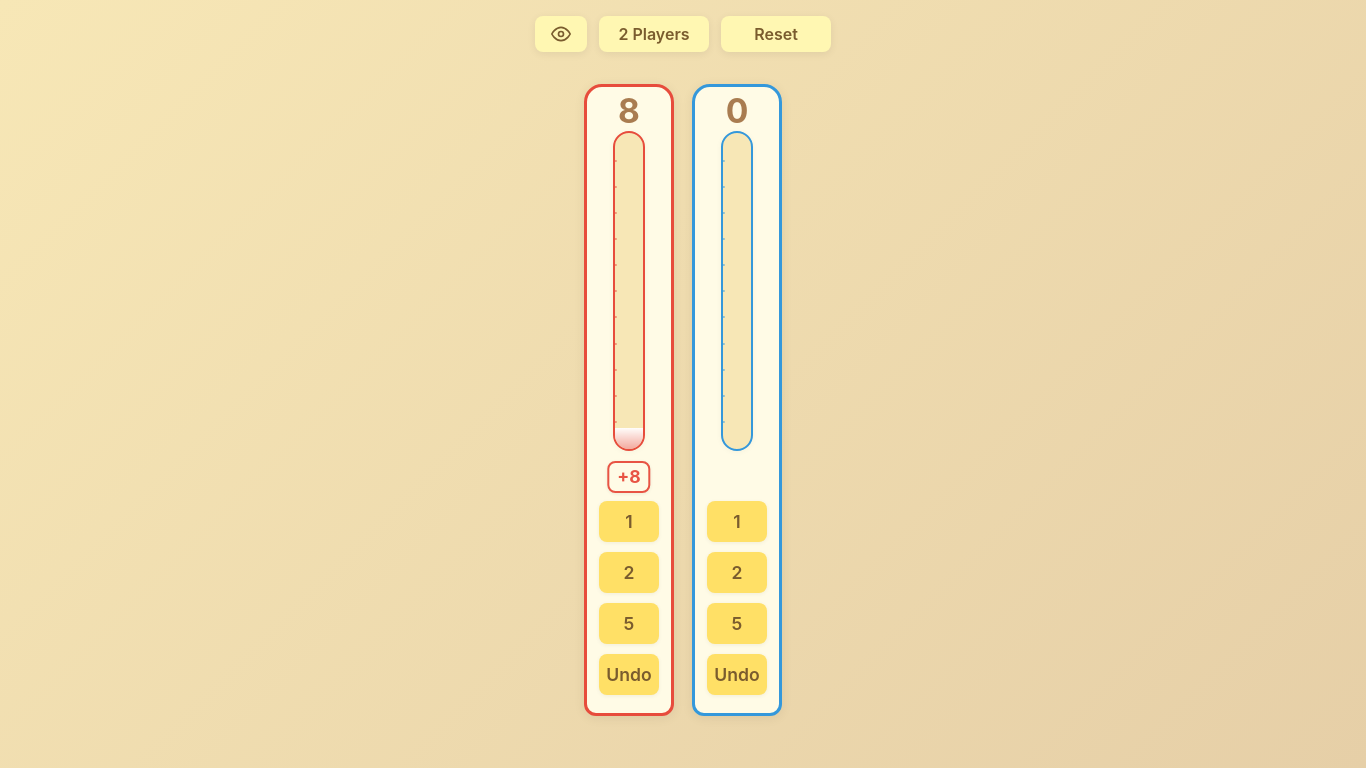
Test: CribbageBoard › undo button clears buffer or undoes last score
Expected: the 1st button "Undo" is shown, [599,654,659,695]
# Scenario 1: Undo clears active buffer
What coordinates should you click on to do the following:
click the 1st button "1"
I would click on:
 (629, 522)
Its box is [599,501,659,542].
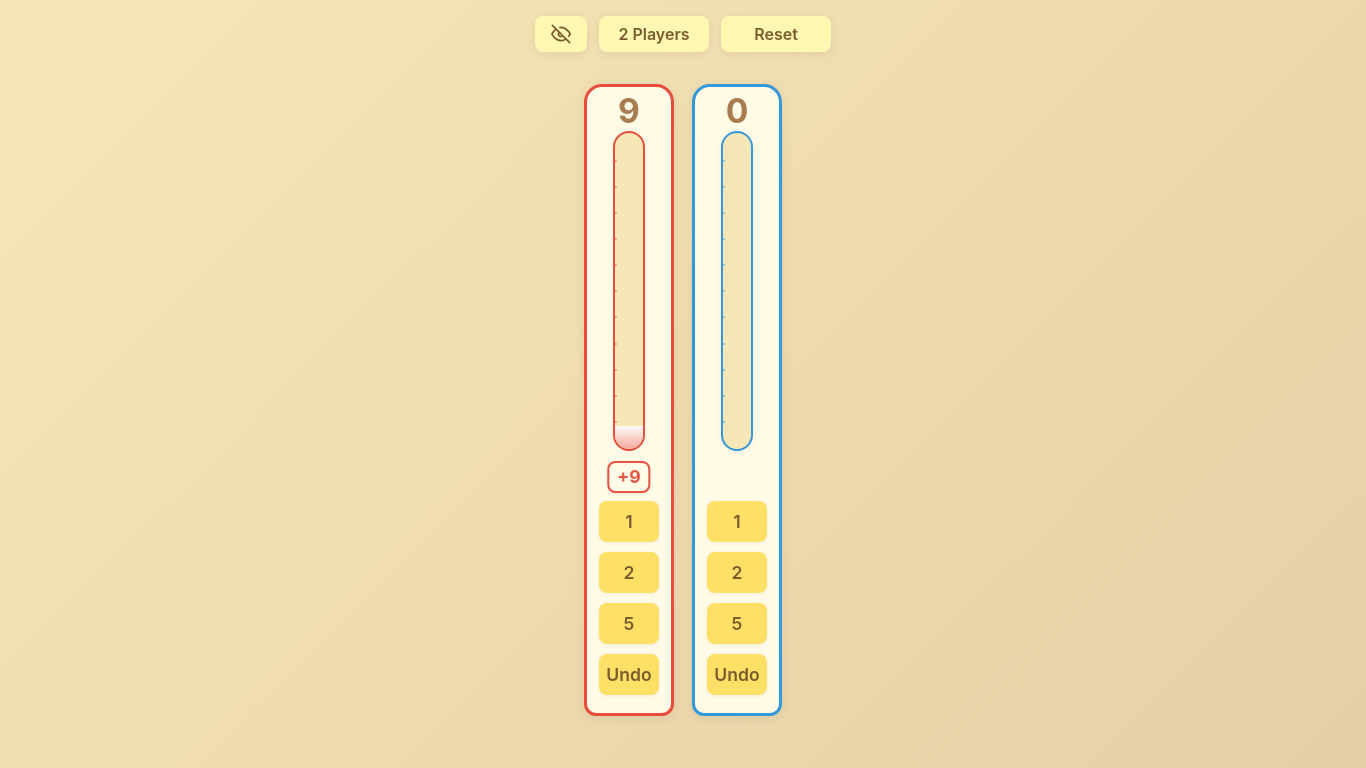
What coordinates should you click on to do the following:
click the 1st button "Undo"
I would click on:
 (629, 674)
Its box is [599,654,659,695].
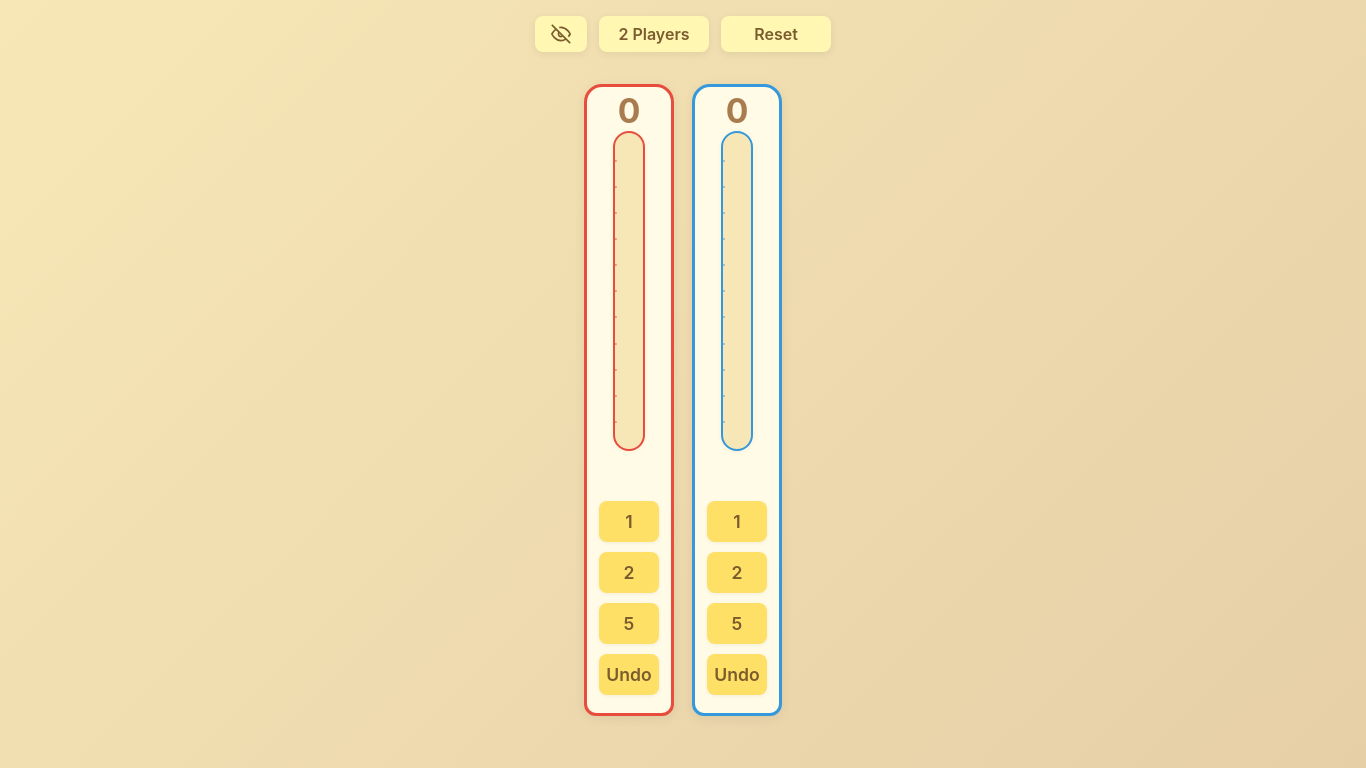
Now the text "+" is gone
Now the 1st text "0" is shown, box [618,99,640,123]
What coordinates should you click on to do the following:
click the 1st button "1"
I would click on:
 (629, 522)
Its box is [599,501,659,542].
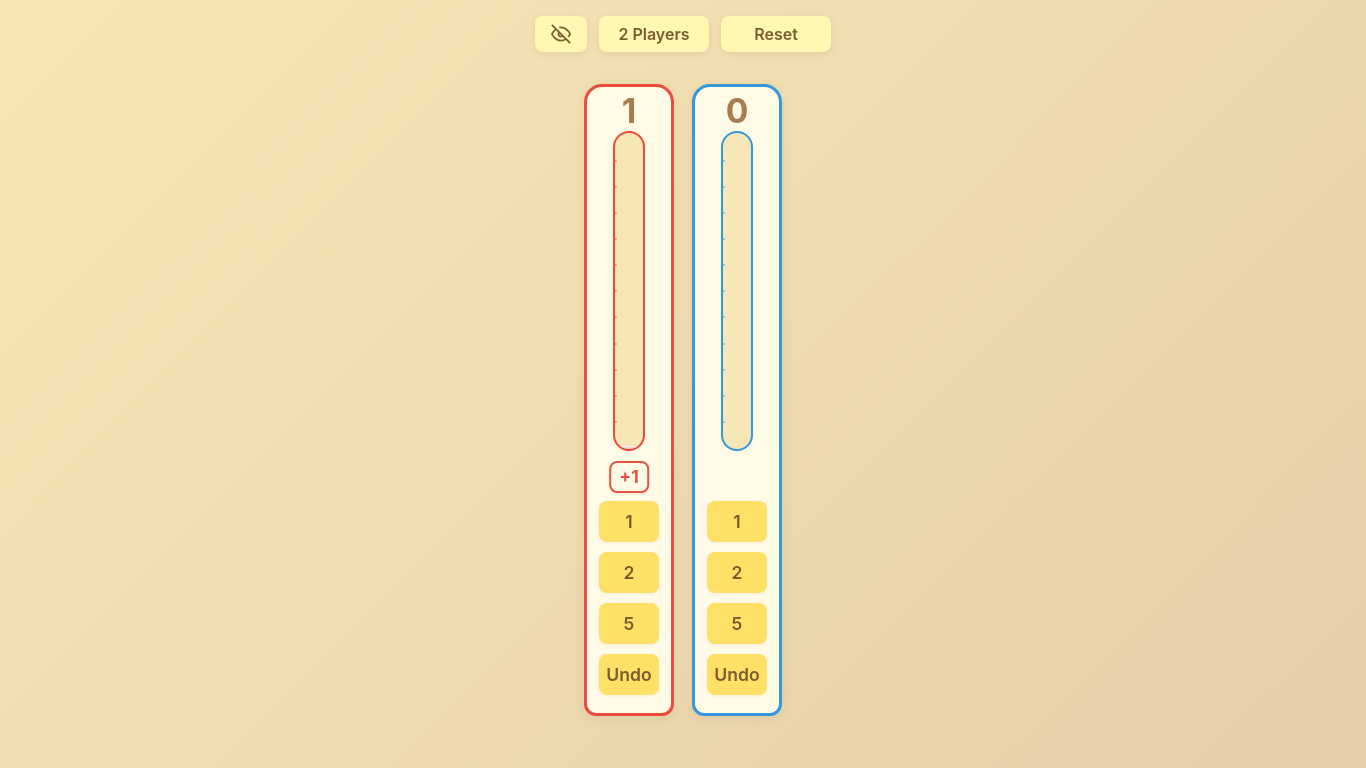
Now the text "+1" is shown
What coordinates should you click on to do the following:
click the text "+1"
I would click on:
 (629, 477)
Its box is [609,461,649,493].
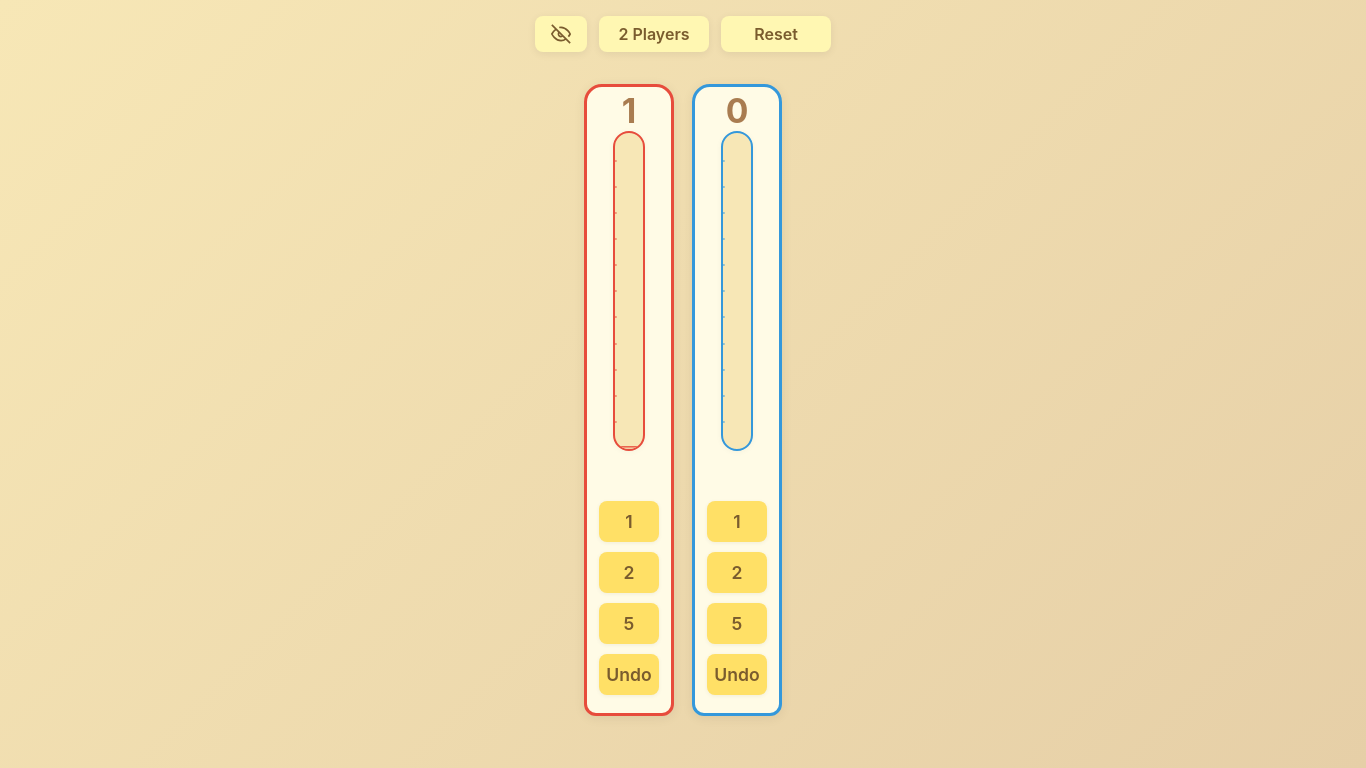
Now the text "1" is shown, box [622,99,636,123]
# Click Undo
What coordinates should you click on to do the following:
click the 1st button "Undo"
I would click on:
 (629, 674)
Its box is [599,654,659,695].
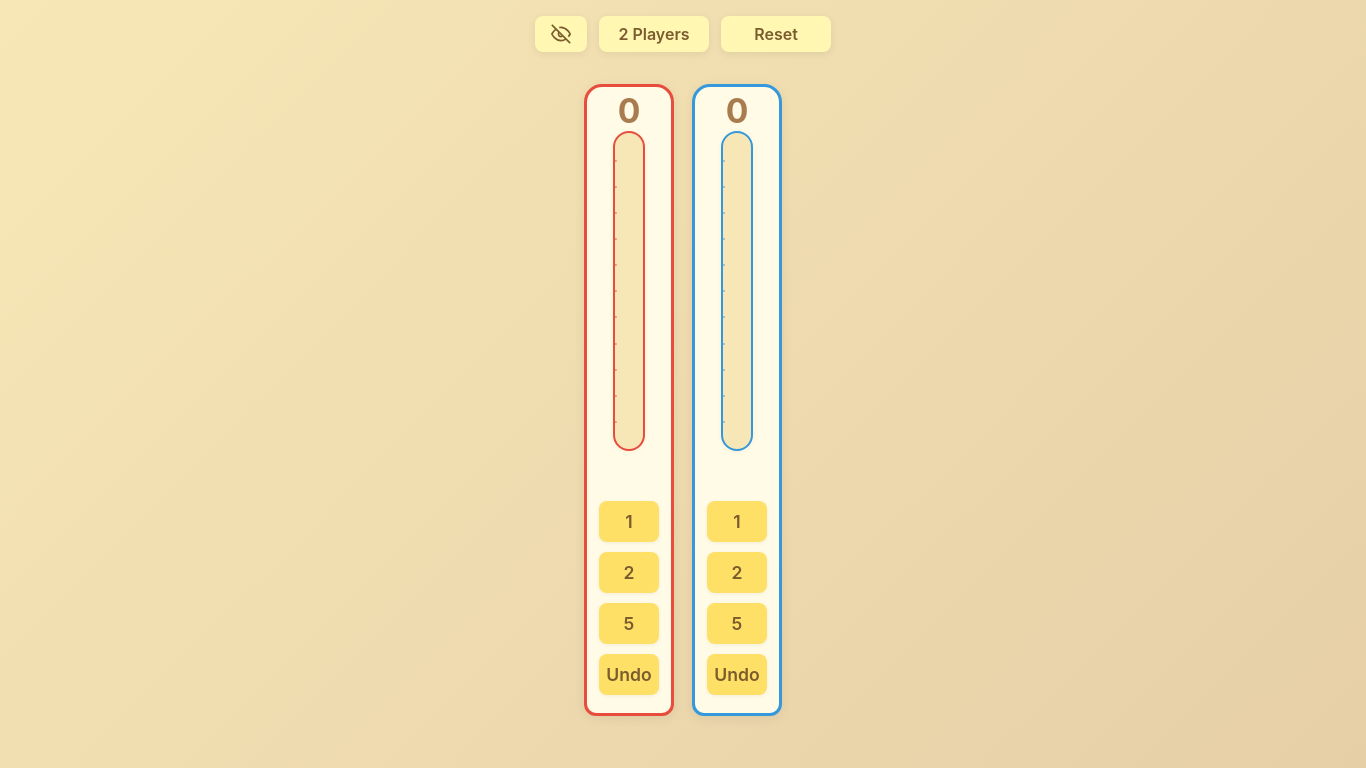
Now the 1st text "0" is shown, box [618,99,640,123]
